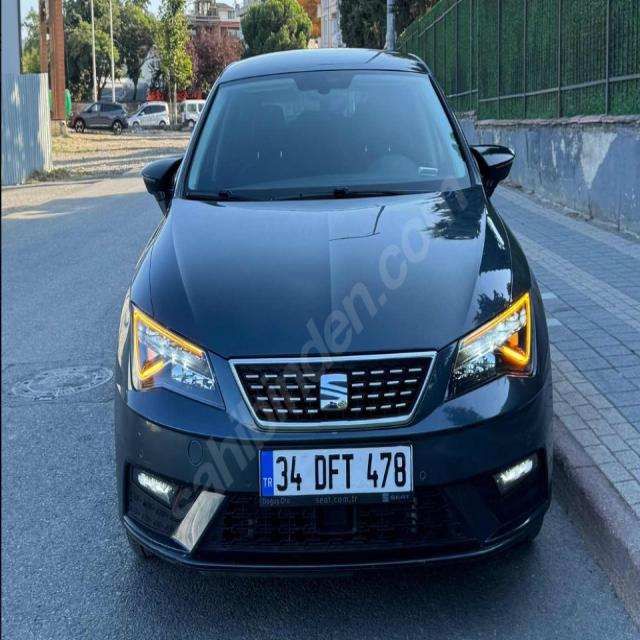seat: (319, 369, 349, 415)
